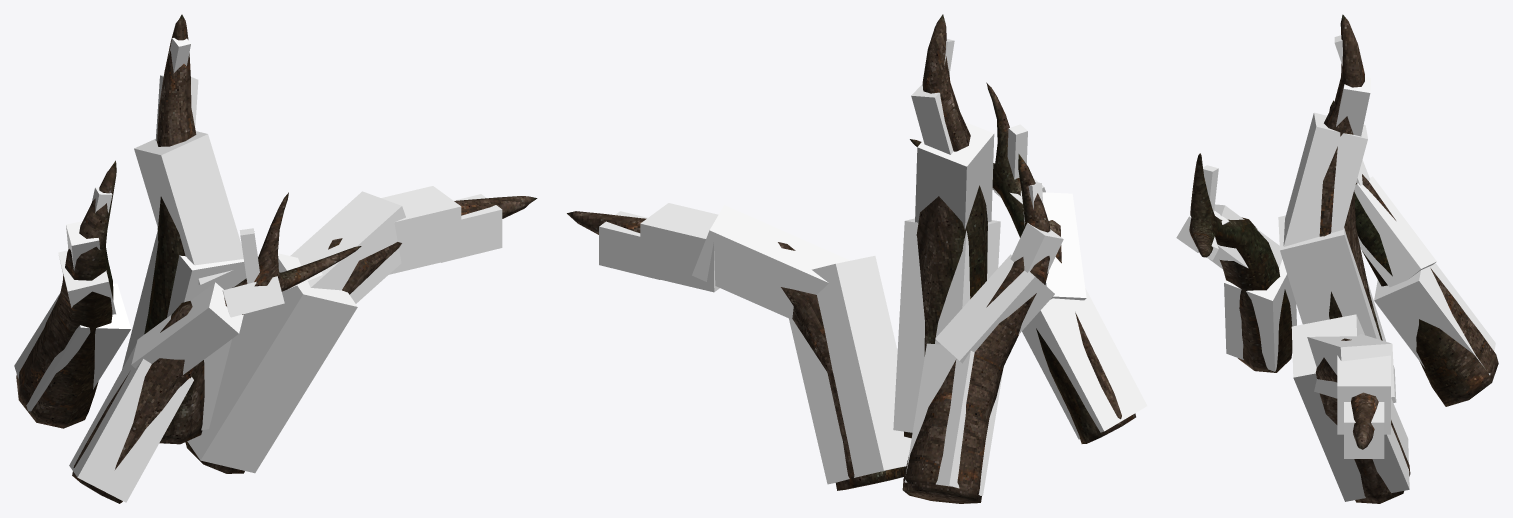
File: apartments_tree.glb
3 renders of one model, left to right at view 1: azimuth 30°, elevation 25°; view 2: azimuth 150°, elevation 25°; view 3: azimuth 270°, elevation 25°, orthographic. The views are drawn at different scales.
Visible parts, largest first — view 1: branches, MeshInstance3D5, MeshInstance3D2, MeshInstance3D13, MeshInstance3D6, MeshInstance3D14, MeshInstance3D7, MeshInstance3D, MeshInstance3D9, MeshInstance3D8, MeshInstance3D15, MeshInstance3D10 (+2 smaller); view 2: branches, MeshInstance3D5, MeshInstance3D6, MeshInstance3D13, MeshInstance3D, MeshInstance3D2, MeshInstance3D7, MeshInstance3D9, MeshInstance3D10, MeshInstance3D14, MeshInstance3D8, MeshInstance3D3 (+2 smaller); view 3: branches, MeshInstance3D5, MeshInstance3D, MeshInstance3D2, MeshInstance3D9, MeshInstance3D10, MeshInstance3D13, MeshInstance3D7, MeshInstance3D6, MeshInstance3D8, MeshInstance3D3, MeshInstance3D14 (+2 smaller).
Boxes of the visible parts, <box> form: branches: <box>16,14,537,503</box>; MeshInstance3D5: <box>187,253,357,473</box>; MeshInstance3D2: <box>134,131,243,284</box>; MeshInstance3D13: <box>69,344,193,502</box>; MeshInstance3D6: <box>290,191,405,303</box>; MeshInstance3D14: <box>131,282,243,374</box>; MeshInstance3D7: <box>381,186,461,274</box>; MeshInstance3D: <box>122,230,246,430</box>; MeshInstance3D9: <box>14,283,131,411</box>; MeshInstance3D8: <box>441,194,502,262</box>; MeshInstance3D15: <box>222,276,284,317</box>; MeshInstance3D10: <box>58,250,115,314</box>; branches: <box>567,14,1135,503</box>; MeshInstance3D5: <box>789,256,911,484</box>; MeshInstance3D6: <box>692,205,849,319</box>; MeshInstance3D13: <box>1022,288,1147,439</box>; MeshInstance3D: <box>893,218,1000,432</box>; MeshInstance3D2: <box>915,122,994,229</box>; MeshInstance3D7: <box>640,203,719,292</box>; MeshInstance3D9: <box>904,343,1003,495</box>; MeshInstance3D10: <box>935,254,1054,363</box>; MeshInstance3D14: <box>1042,192,1086,300</box>; MeshInstance3D8: <box>599,211,660,279</box>; MeshInstance3D3: <box>911,84,953,154</box>; branches: <box>1189,14,1498,503</box>; MeshInstance3D5: <box>1291,314,1409,501</box>; MeshInstance3D: <box>1278,215,1396,402</box>; MeshInstance3D2: <box>1283,112,1367,246</box>; MeshInstance3D9: <box>1374,263,1495,375</box>; MeshInstance3D10: <box>1354,176,1436,287</box>; MeshInstance3D13: <box>1224,259,1296,371</box>; MeshInstance3D7: <box>1337,355,1390,434</box>; MeshInstance3D6: <box>1307,334,1394,398</box>; MeshInstance3D8: <box>1344,402,1384,458</box>; MeshInstance3D3: <box>1336,77,1370,136</box>; MeshInstance3D14: <box>1190,204,1282,268</box>.
Size of the model in its own units: 42.51 by 37.63 by 24.08.
19 materials, 1 textured.
